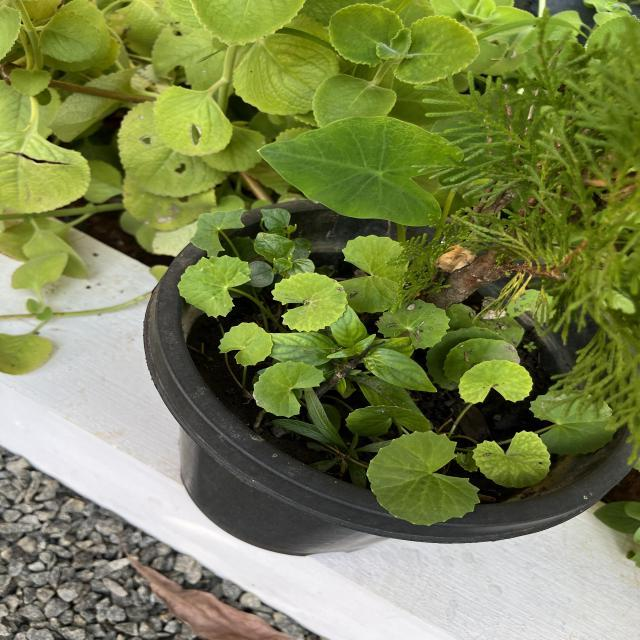Centella asiatica: (364, 428, 484, 528), (268, 270, 350, 334), (175, 253, 253, 319), (471, 428, 554, 489), (250, 358, 328, 419), (217, 321, 275, 368)
